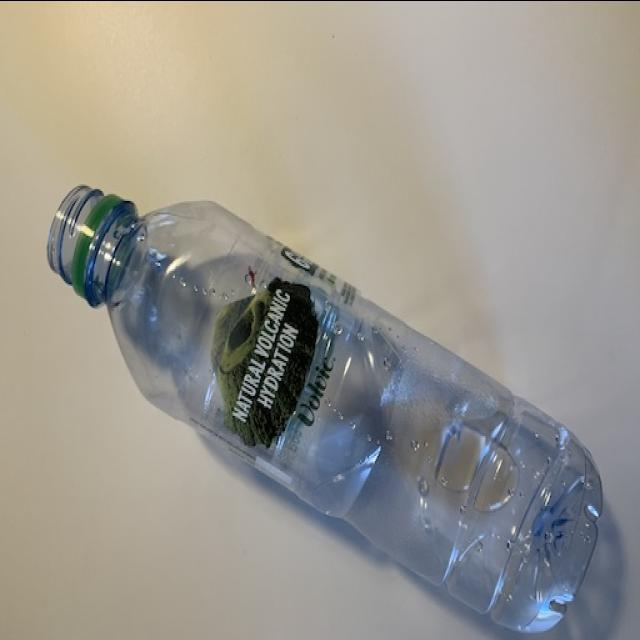litter: (46, 183, 602, 640)
